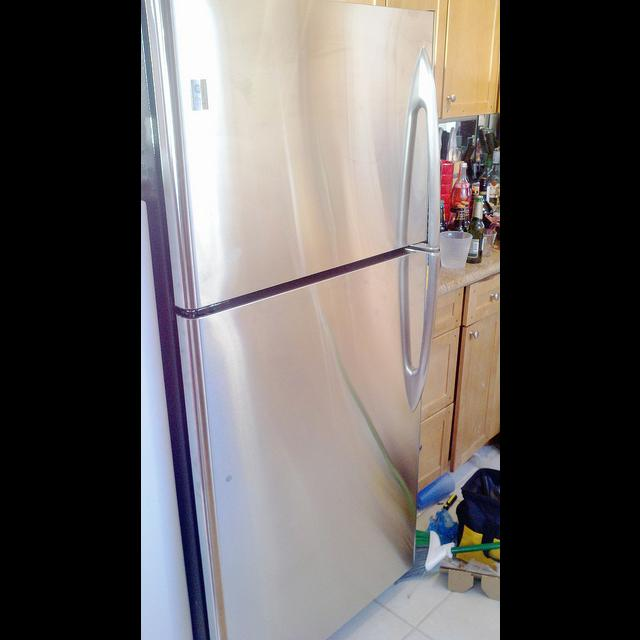Refrigerator: (140, 6, 451, 633)
